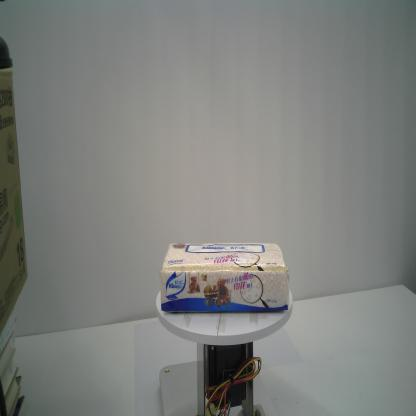Tissue: (159, 241, 290, 314)
